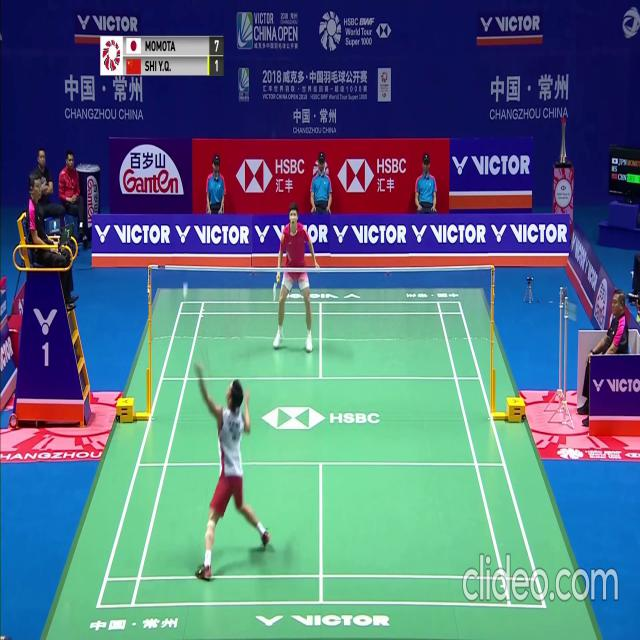Shuttlecock: (182, 293, 186, 300)
